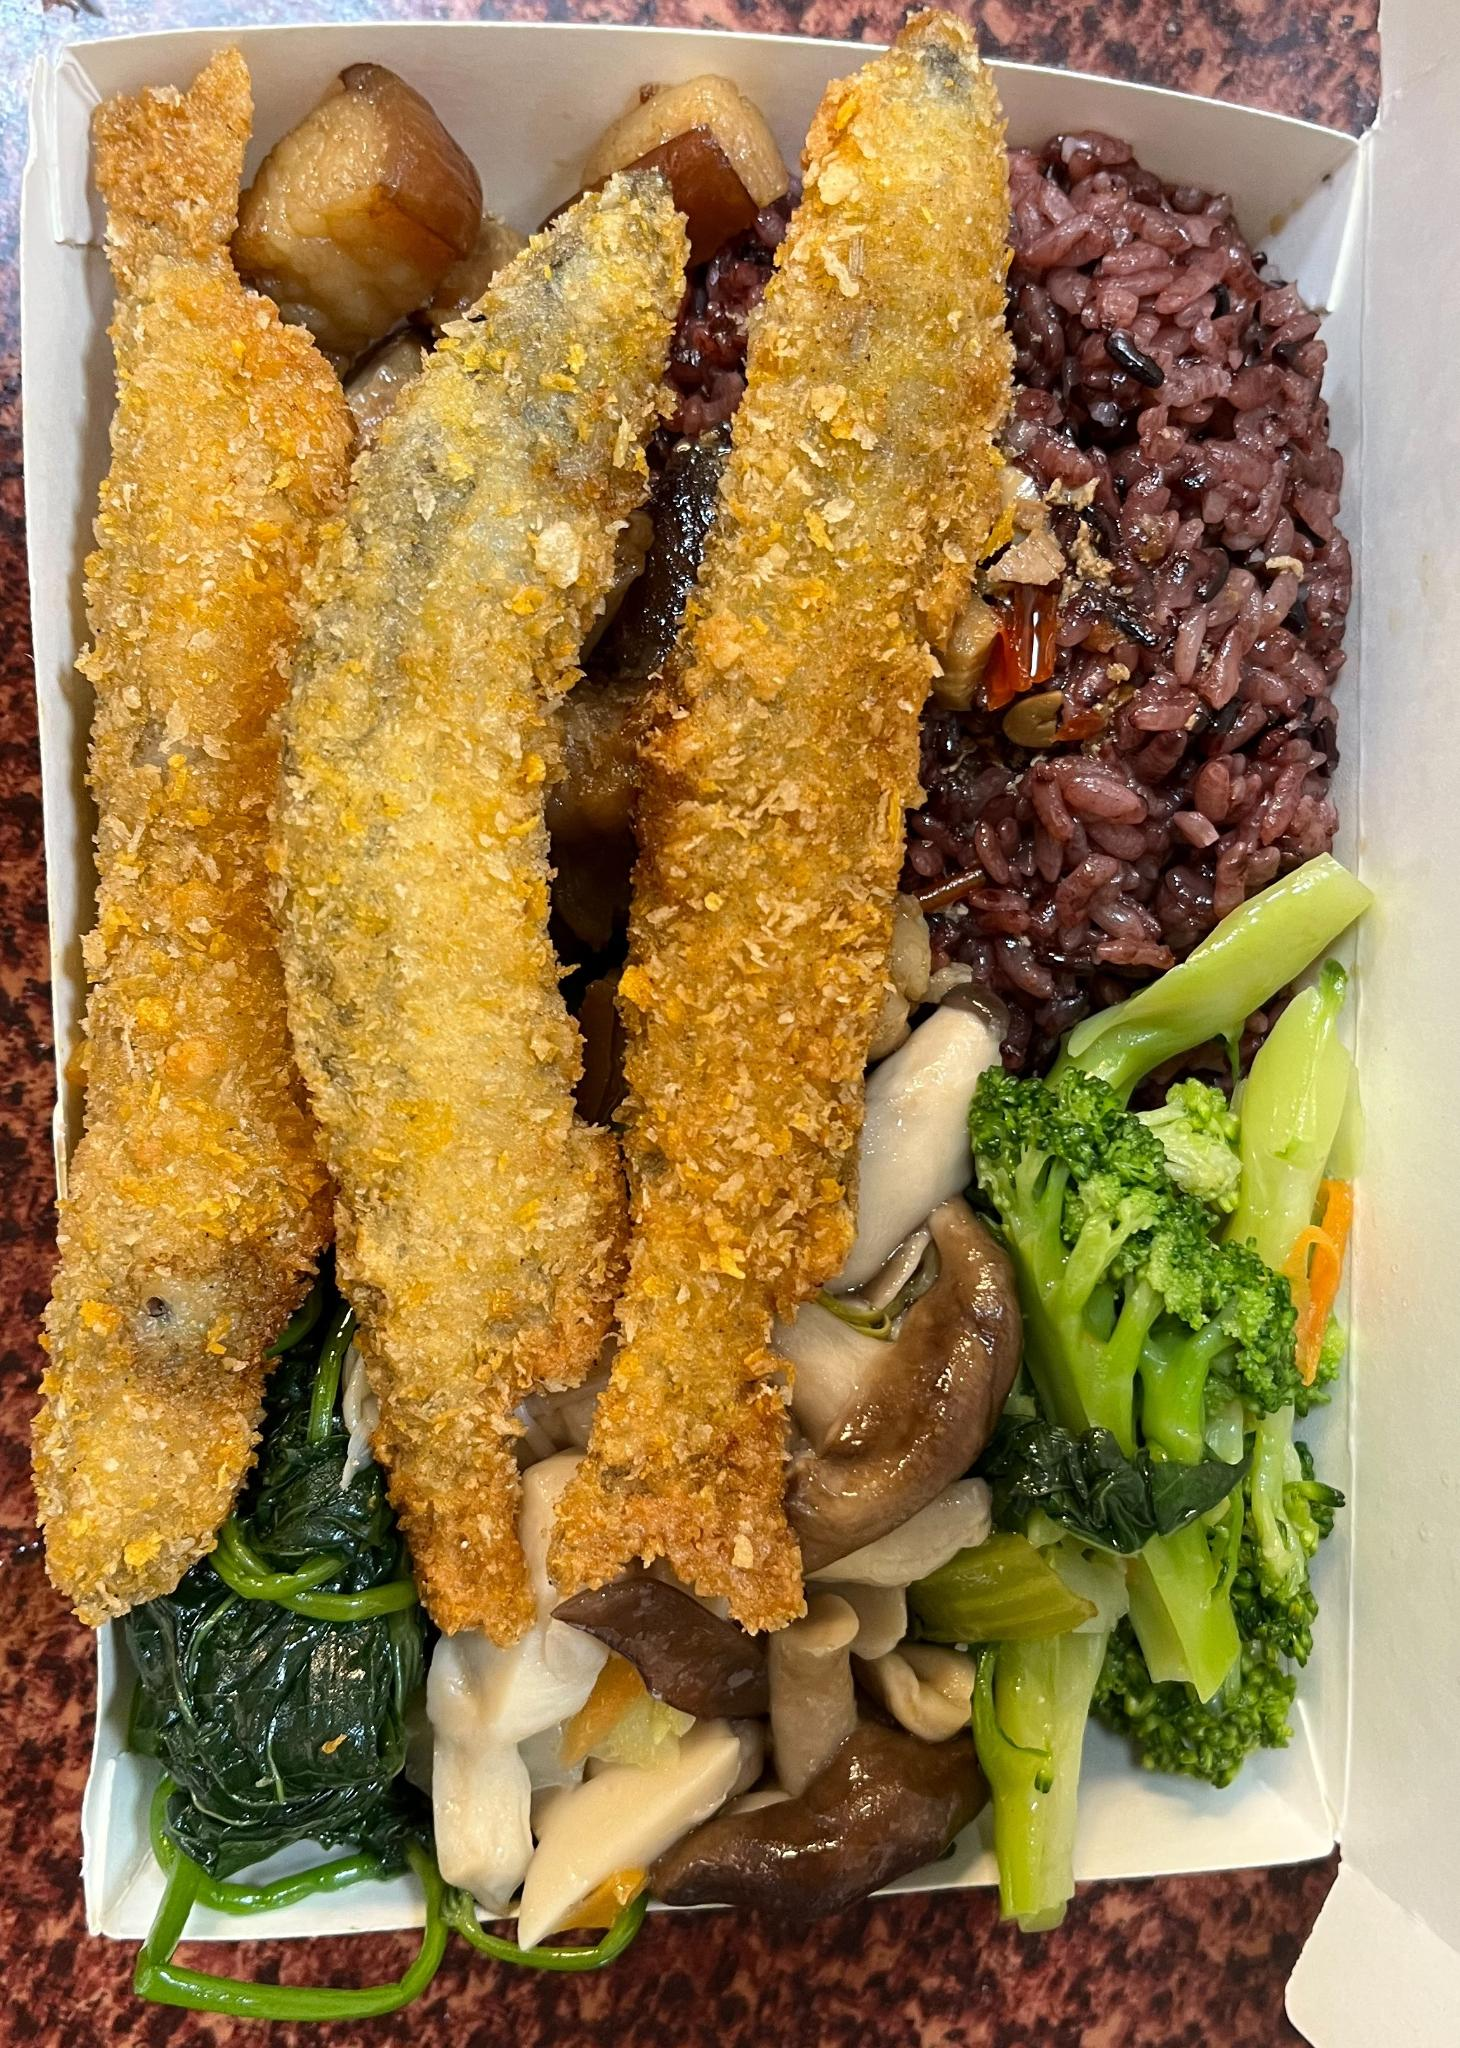big grilled chicken leg: (8, 8, 1425, 1963)
braised fish: (923, 160, 1359, 1029)
braised fish fillet: (973, 877, 1373, 1841), (730, 980, 1003, 1892), (172, 1304, 409, 1896)
braised pork: (65, 8, 1003, 1648), (231, 58, 790, 318)
